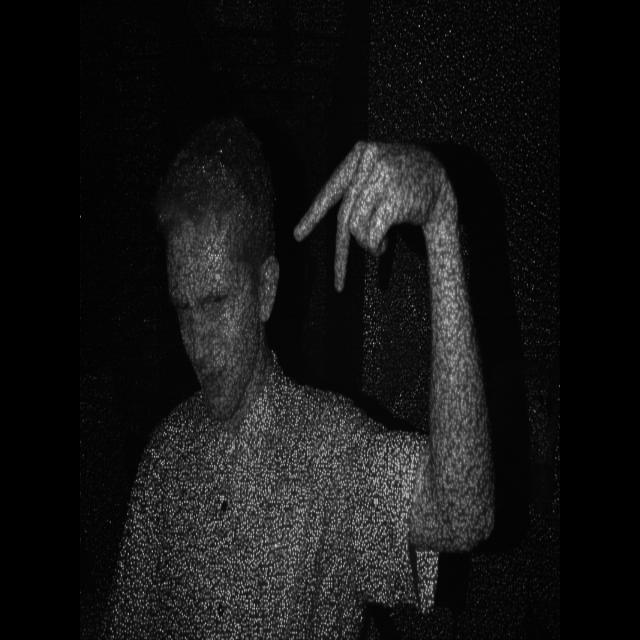P: (283, 127, 428, 317)
